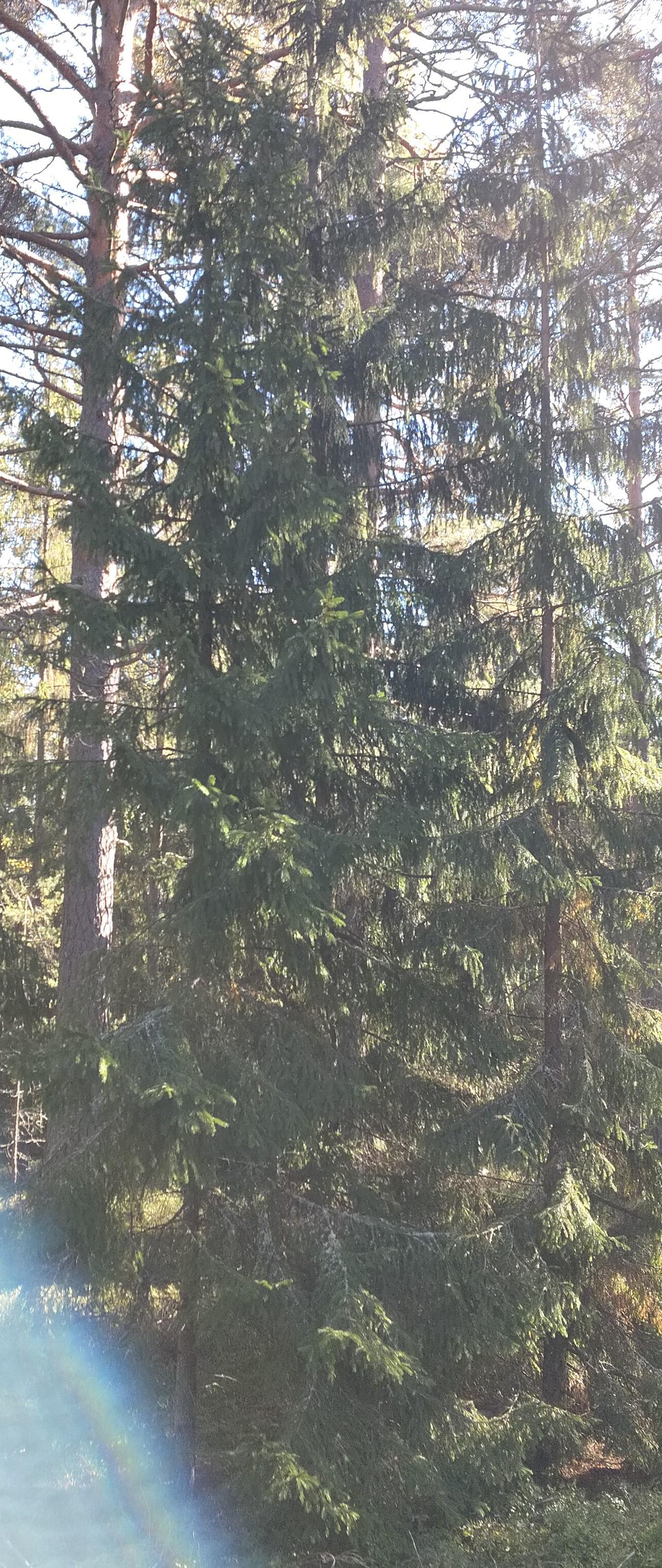Spruce: (93, 68, 336, 1486)
